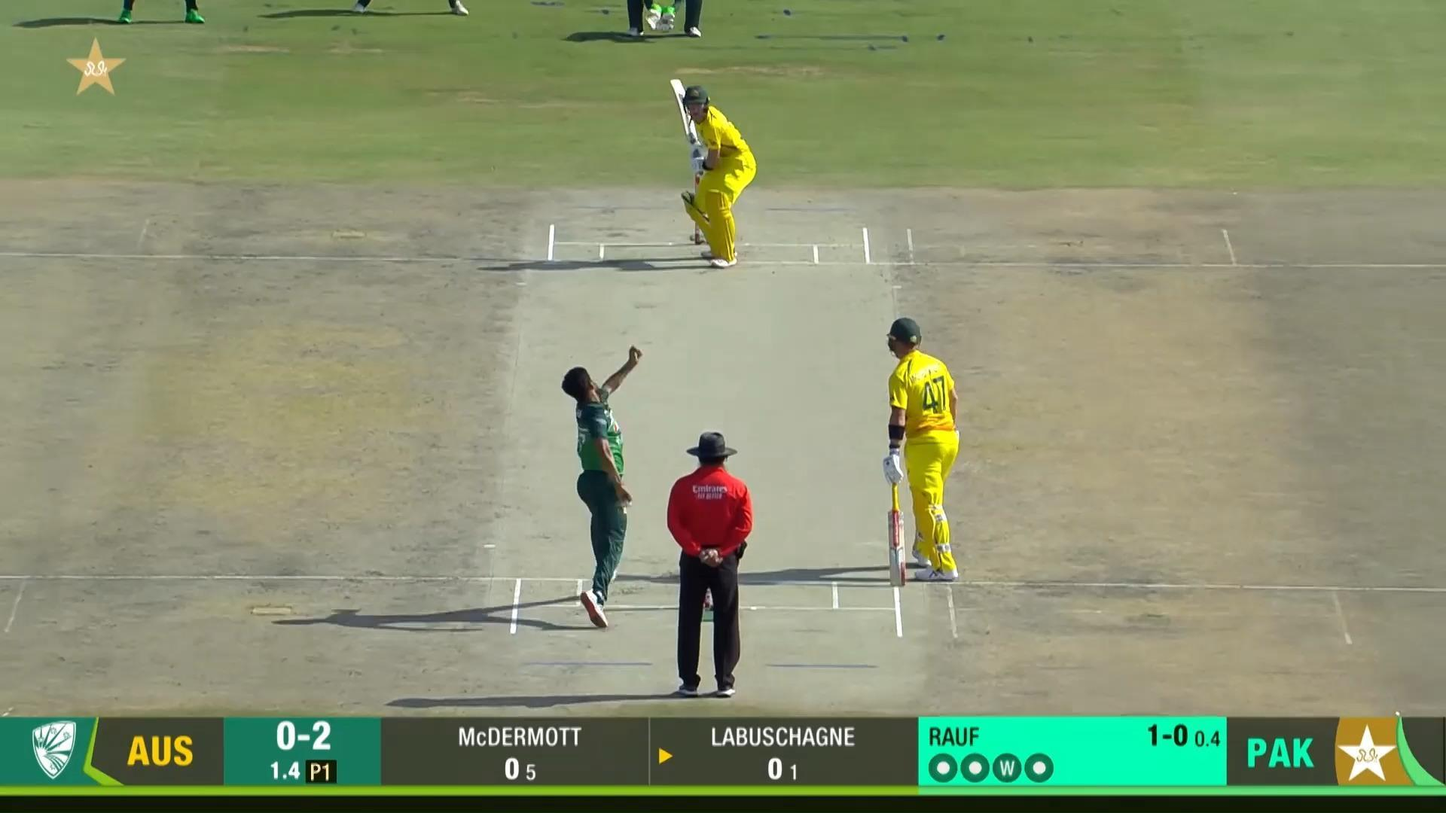BM 1: (670, 77, 757, 270)
BO: (562, 346, 644, 629)
